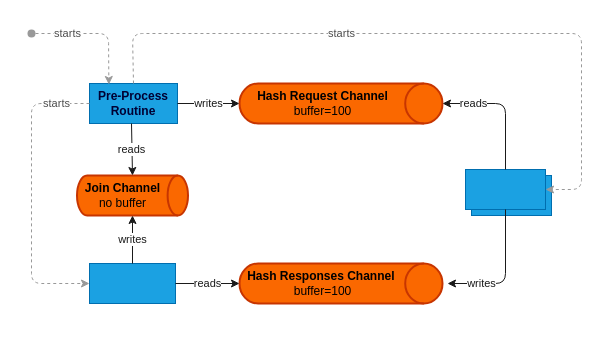
This 613x340 diagram has some shape labels left out. Each missing label, with the centre of its shape:
"Hash Worker Routine N" goes at point 505,189.
"Post-Process Routine" goes at point 132,283.
